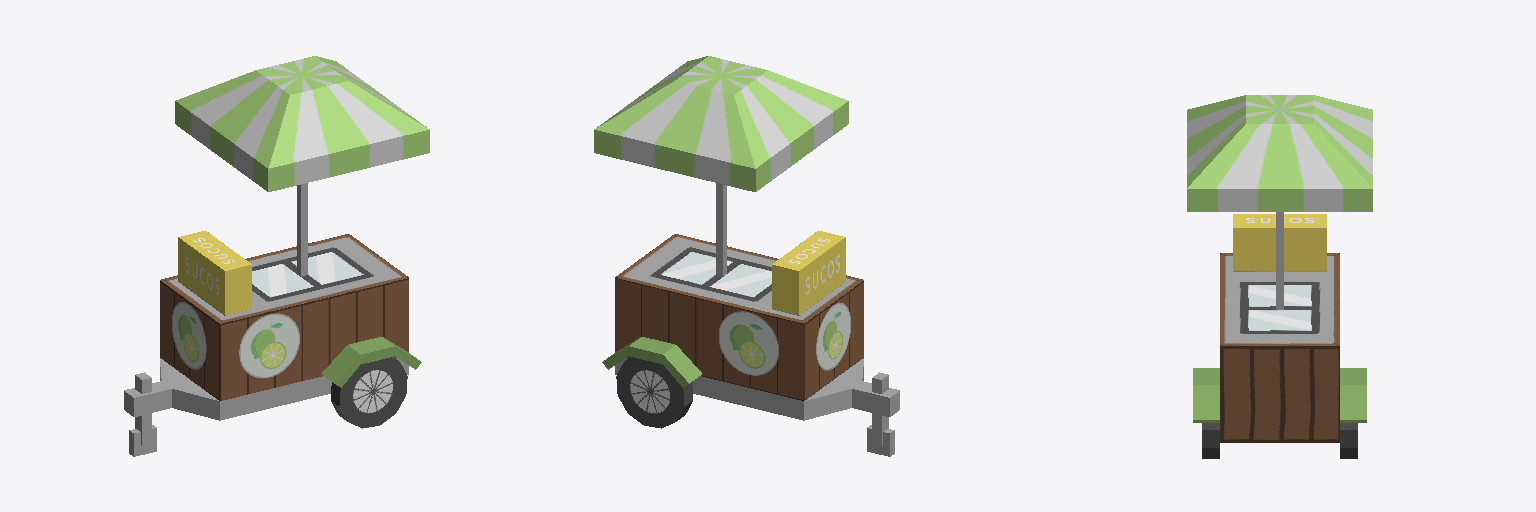
The picture shows the model from 3 angles: view 1: azimuth 30°, elevation 25°; view 2: azimuth 150°, elevation 25°; view 3: azimuth 270°, elevation 25°; orthographic projection.
Visible parts, largest first — view 1: SI_Prop_Hotdog_Kiosk.001_Mesh.001; view 2: SI_Prop_Hotdog_Kiosk.001_Mesh.001; view 3: SI_Prop_Hotdog_Kiosk.001_Mesh.001.
Boxes of the visible parts, <box> form: SI_Prop_Hotdog_Kiosk.001_Mesh.001: <box>124,56,429,456</box>; SI_Prop_Hotdog_Kiosk.001_Mesh.001: <box>594,56,899,456</box>; SI_Prop_Hotdog_Kiosk.001_Mesh.001: <box>1187,95,1372,458</box>.
Size of the model in its own units: 0.029 by 0.0369 by 0.0184.
1 materials, 1 textured.